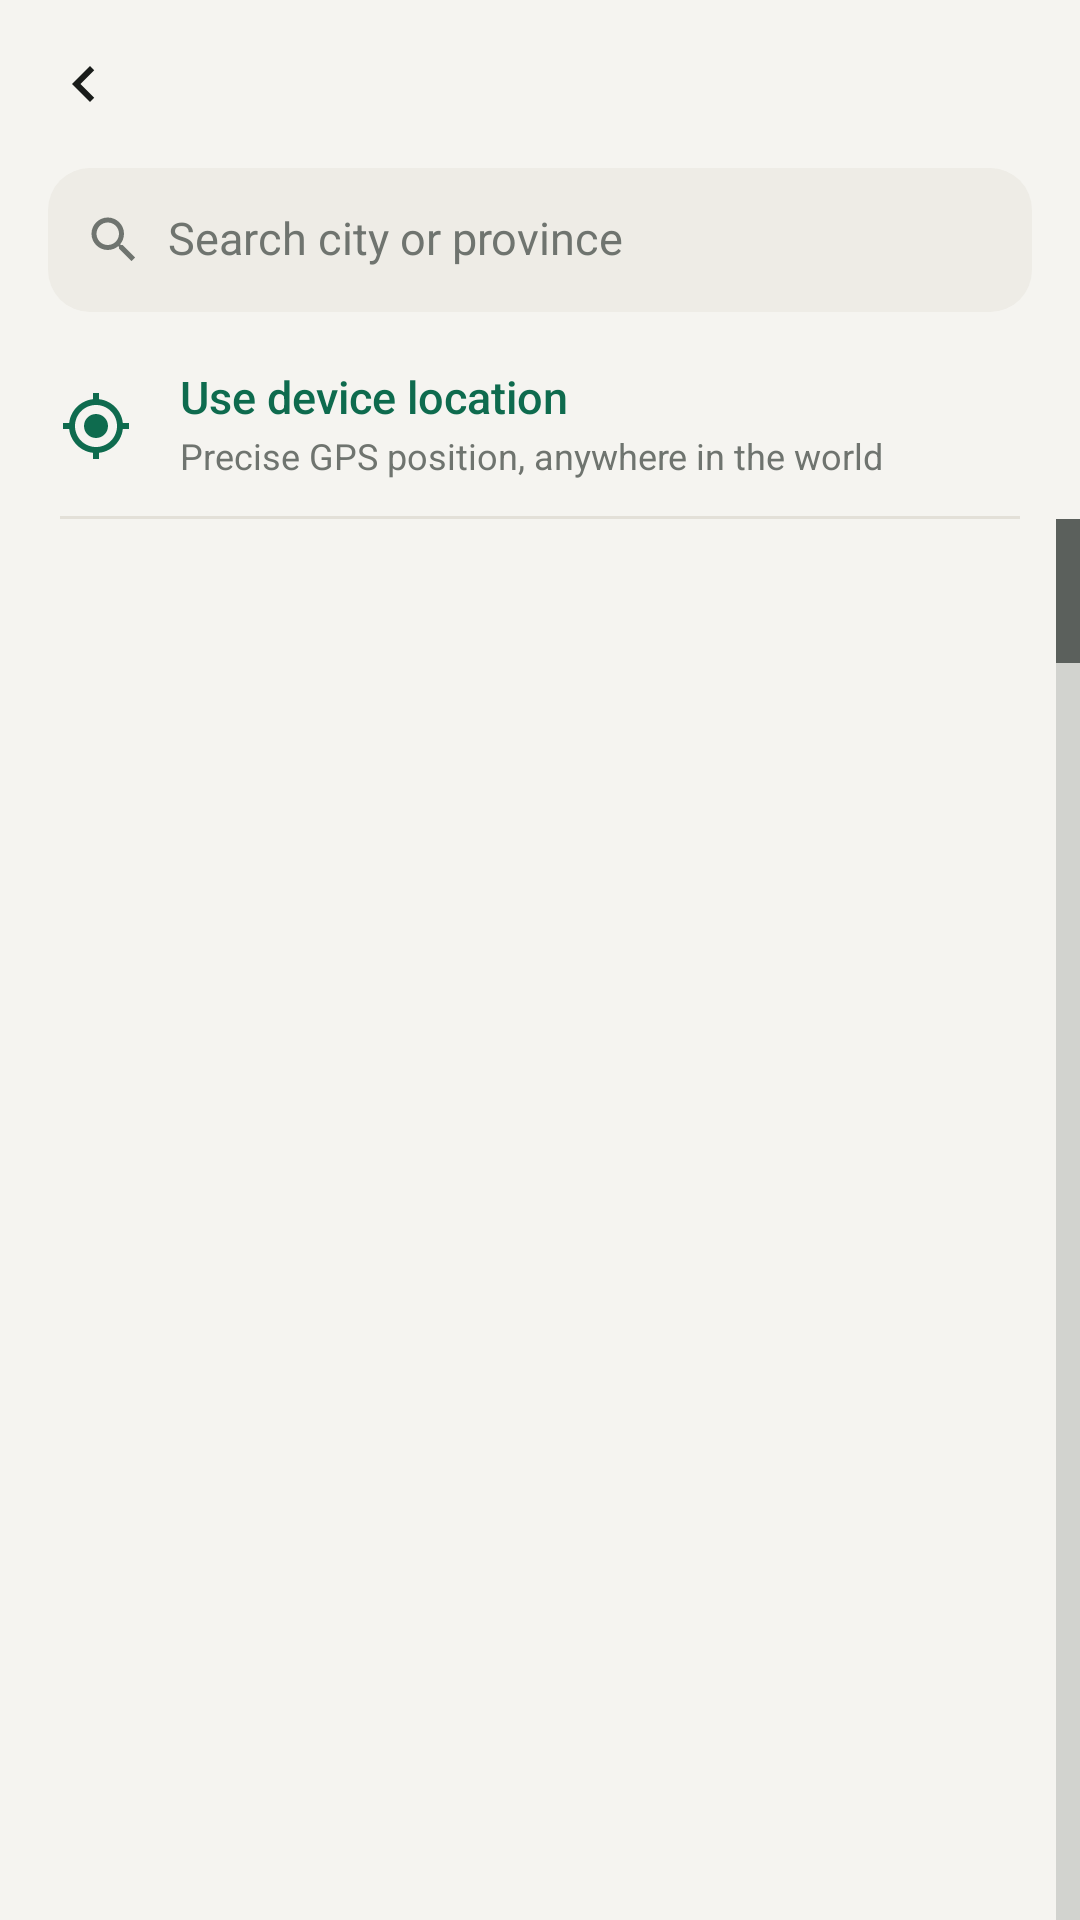

Named icons in this screenshot (1080×1920) and their centers, point (x, y):
Back: point (83, 84)
